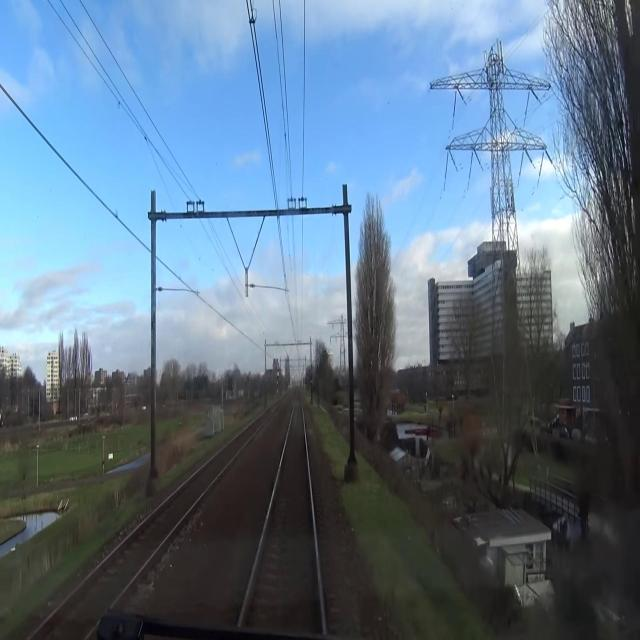rail-track: (34, 419, 262, 639), (243, 395, 321, 629)
